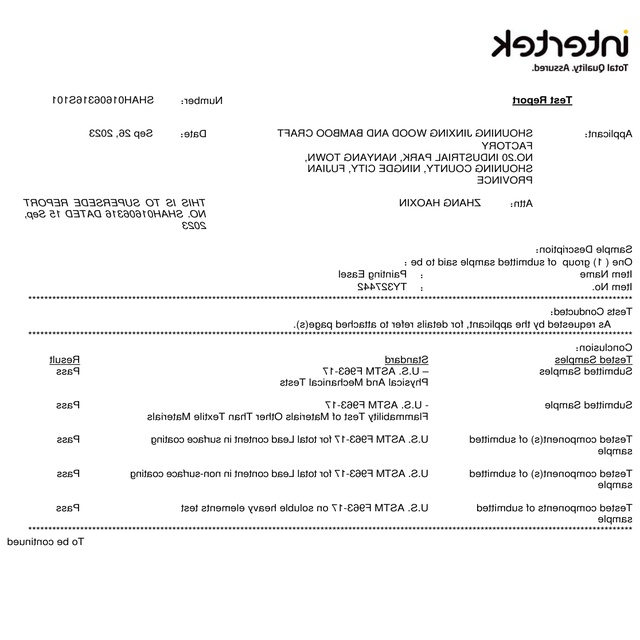intertek: (488, 24, 633, 64)
